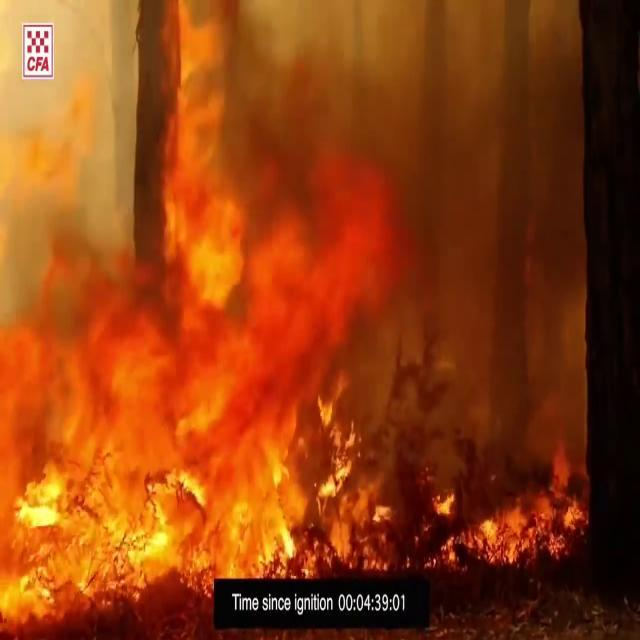Fire: (0, 140, 428, 608), (436, 461, 590, 574)
Smoke: (0, 0, 147, 341)
